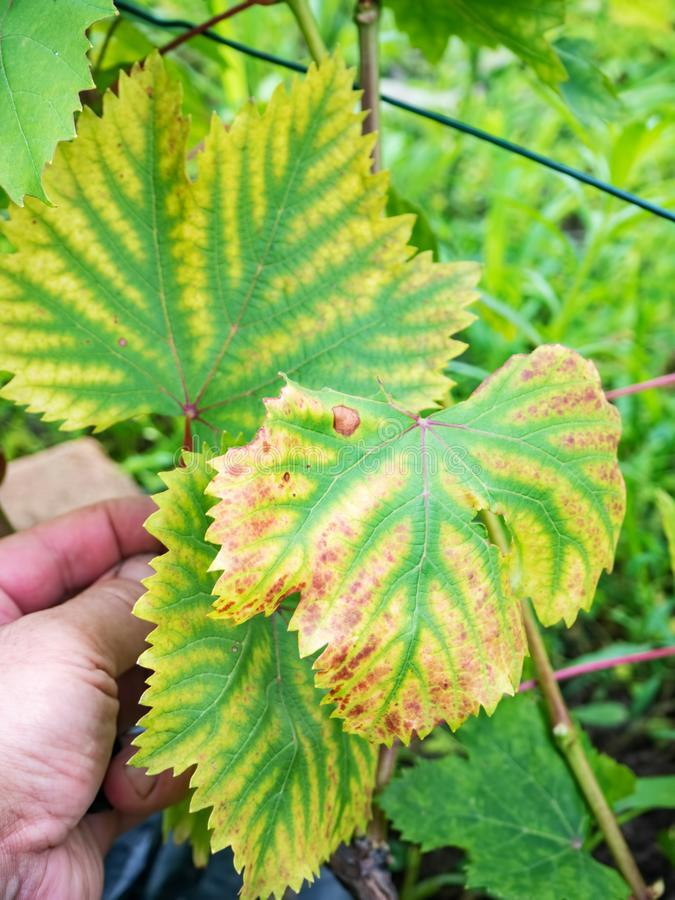chlorosis: (0, 54, 477, 435), (210, 345, 624, 743), (133, 455, 376, 899)
